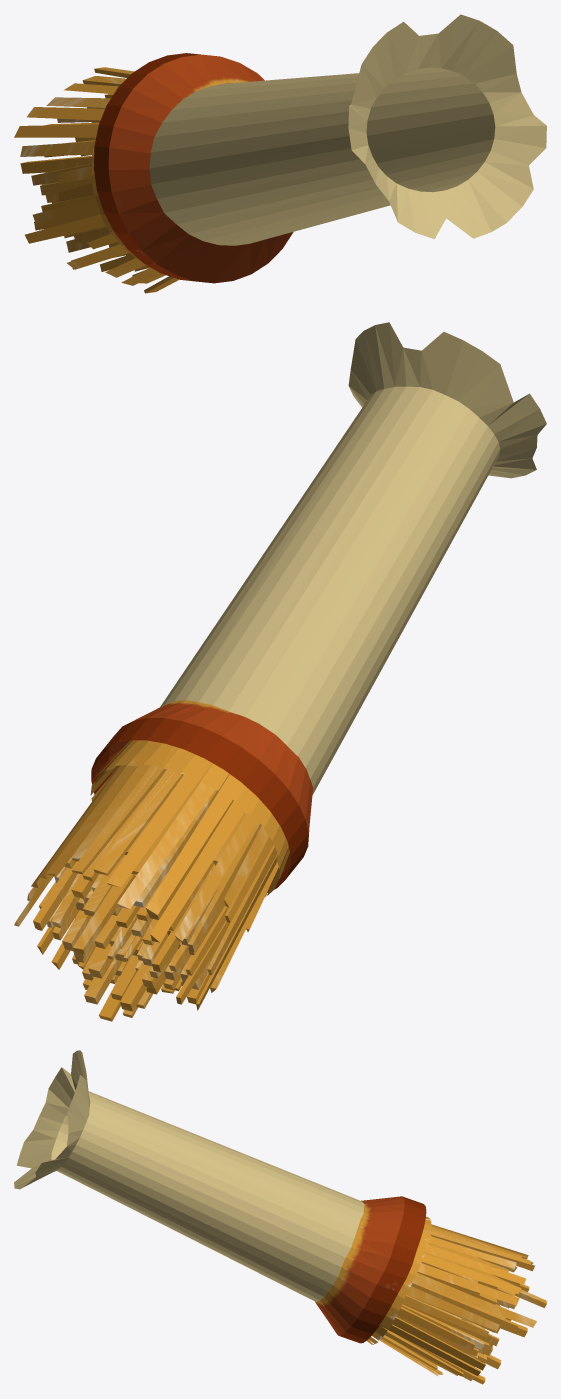
File: playerH.obj
The picture shows the model from 3 angles, top to bottom: view 1: azimuth 30°, elevation 25°; view 2: azimuth 150°, elevation 25°; view 3: azimuth 270°, elevation 25°; orthographic projection. The views are drawn at different scales.
Parts seen in each view (by area): view 1: 円柱; view 2: 円柱; view 3: 円柱.
Part boxes in pixels (bbox=[...]): 円柱: bbox=[14, 14, 546, 293]; 円柱: bbox=[14, 322, 546, 1021]; 円柱: bbox=[14, 1050, 546, 1384].
Size of the model in its own units: 0.504 by 1.18 by 1.79.
1 material, 1 textured.
